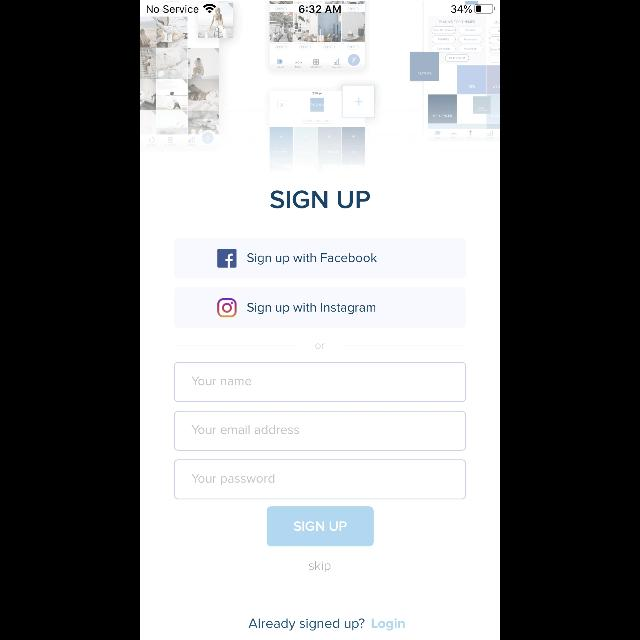image: (140, 0, 500, 172)
input: (174, 459, 466, 499), (174, 411, 466, 451), (174, 362, 466, 402)
text: (270, 192, 370, 208), (250, 618, 364, 630), (191, 474, 275, 486), (192, 426, 300, 434), (192, 376, 252, 386), (372, 618, 404, 630), (310, 562, 330, 572), (316, 344, 324, 348)
textbutton: (174, 288, 466, 328), (174, 238, 466, 278), (267, 506, 373, 546)
uppertaskbar: (140, 0, 500, 14)
